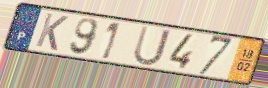1: (101, 22, 122, 61)
4: (167, 33, 196, 71)
7: (196, 34, 236, 77)
9: (69, 18, 100, 56)
K: (33, 12, 70, 53)
U: (131, 24, 173, 67)
